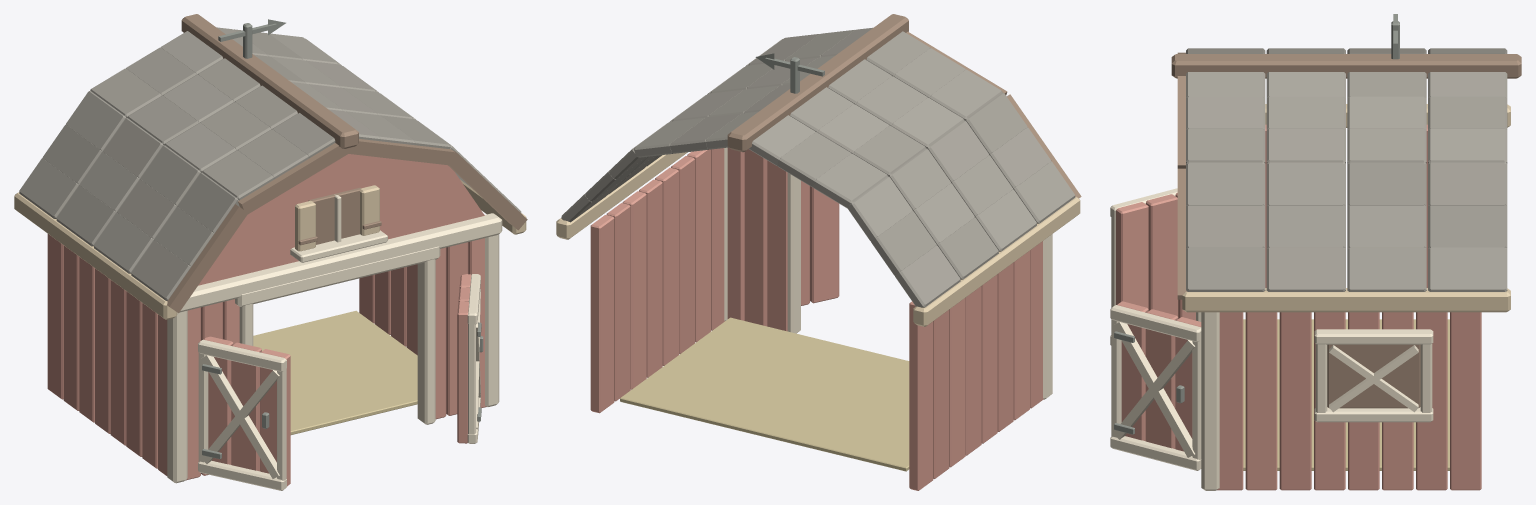
The model's file is crafted-barn-1-ready-front.glb.
The picture shows the model from 3 angles, left to right: view 1: azimuth 30°, elevation 25°; view 2: azimuth 150°, elevation 25°; view 3: azimuth 270°, elevation 25°; orthographic projection. The views are drawn at different scales.
Visible parts, largest first — view 1: gable-1, hay-floor, header-1, ridge-cap, corner-post-1, eave-fascia, door-frame-1, door-top, siding-11, siding-15, siding-12, siding-16 (+68 smaller); view 2: hay-floor, siding-19, ridge-cap, siding-11, siding-31, siding-30, eave-fascia, siding-20, siding-21, siding-22, siding-23, door-siding-3 (+51 smaller); view 3: eave-fascia-1, ridge-cap, siding-24, siding-25, siding-19, siding-26, side-window-dark, siding-20, roof-tile-45, roof-tile-44, roof-tile-46, roof-tile-47 (+48 smaller).
Part boxes in pixels (<box>): gable-1: <box>198,154,484,285</box>; hay-floor: <box>253,310,417,434</box>; header-1: <box>179,213,502,312</box>; ridge-cap: <box>181,14,358,148</box>; corner-post-1: <box>167,310,187,483</box>; eave-fascia: <box>14,192,177,319</box>; door-frame-1: <box>417,259,435,424</box>; door-top: <box>235,246,440,306</box>; siding-11: <box>47,234,63,399</box>; siding-15: <box>110,280,126,445</box>; siding-12: <box>63,245,79,410</box>; siding-16: <box>126,291,142,456</box>; hay-floor: <box>620,317,909,471</box>; siding-19: <box>590,215,614,413</box>; ridge-cap: <box>727,14,908,152</box>; siding-11: <box>909,301,933,490</box>; siding-31: <box>744,149,767,326</box>; siding-30: <box>767,160,787,331</box>; eave-fascia: <box>913,196,1080,326</box>; siding-20: <box>606,203,630,401</box>; siding-21: <box>622,191,646,389</box>; siding-22: <box>639,179,662,377</box>; siding-23: <box>655,167,678,365</box>; door-siding-3: <box>810,186,839,303</box>; eave-fascia-1: <box>1182,288,1510,312</box>; ridge-cap: <box>1171,54,1521,78</box>; siding-24: <box>1279,312,1311,490</box>; siding-25: <box>1245,312,1277,490</box>; siding-19: <box>1450,312,1481,490</box>; siding-26: <box>1217,312,1243,490</box>; side-window-dark: <box>1327,344,1420,408</box>; siding-20: <box>1416,312,1447,490</box>; roof-tile-45: <box>1347,247,1426,291</box>; roof-tile-44: <box>1428,247,1507,291</box>; roof-tile-46: <box>1266,247,1345,291</box>; roof-tile-47: <box>1186,247,1265,291</box>.
Size of the model in its own units: 2.33 by 2.18 by 2.12.
